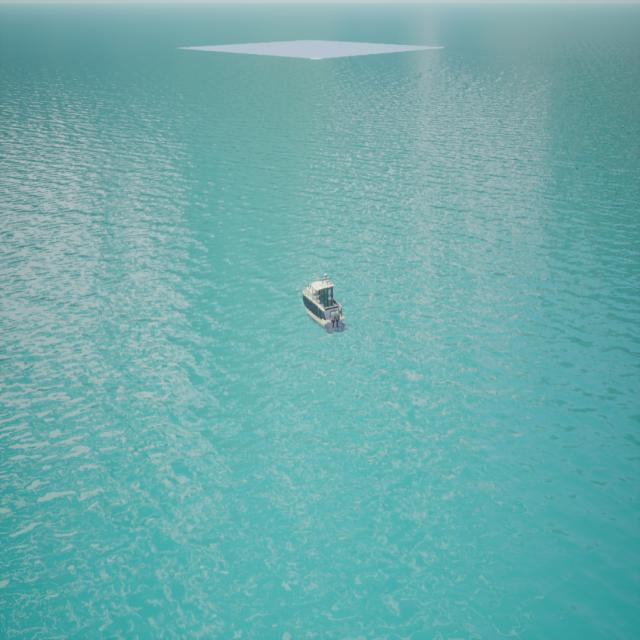ship: (299, 263, 348, 341)
